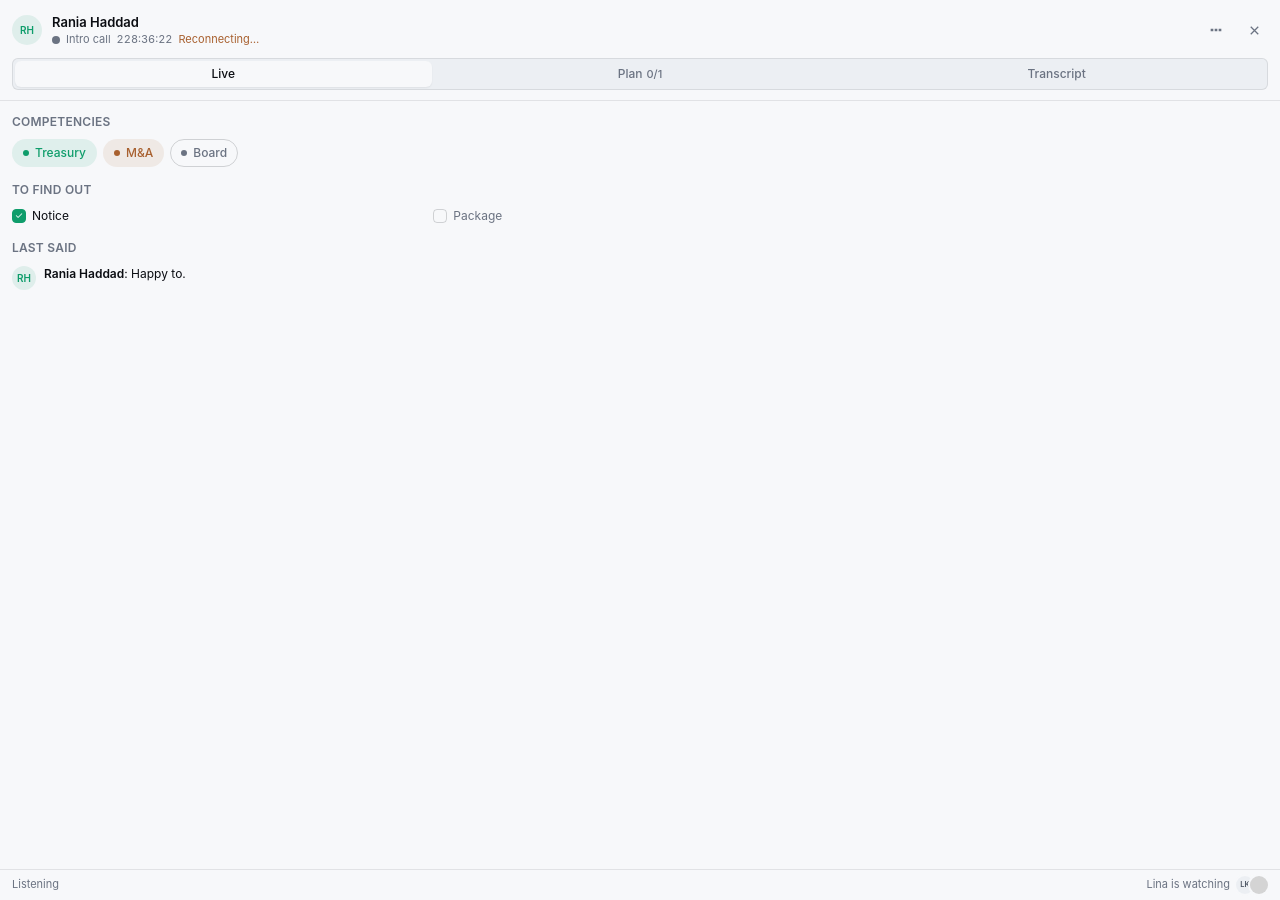
it: CopilotPanel › stops the copilot for everyone only after asking, from the menu
Click the button named "Copilot options" at x=1216, y=30, box left=1202, top=16, right=1230, bottom=44
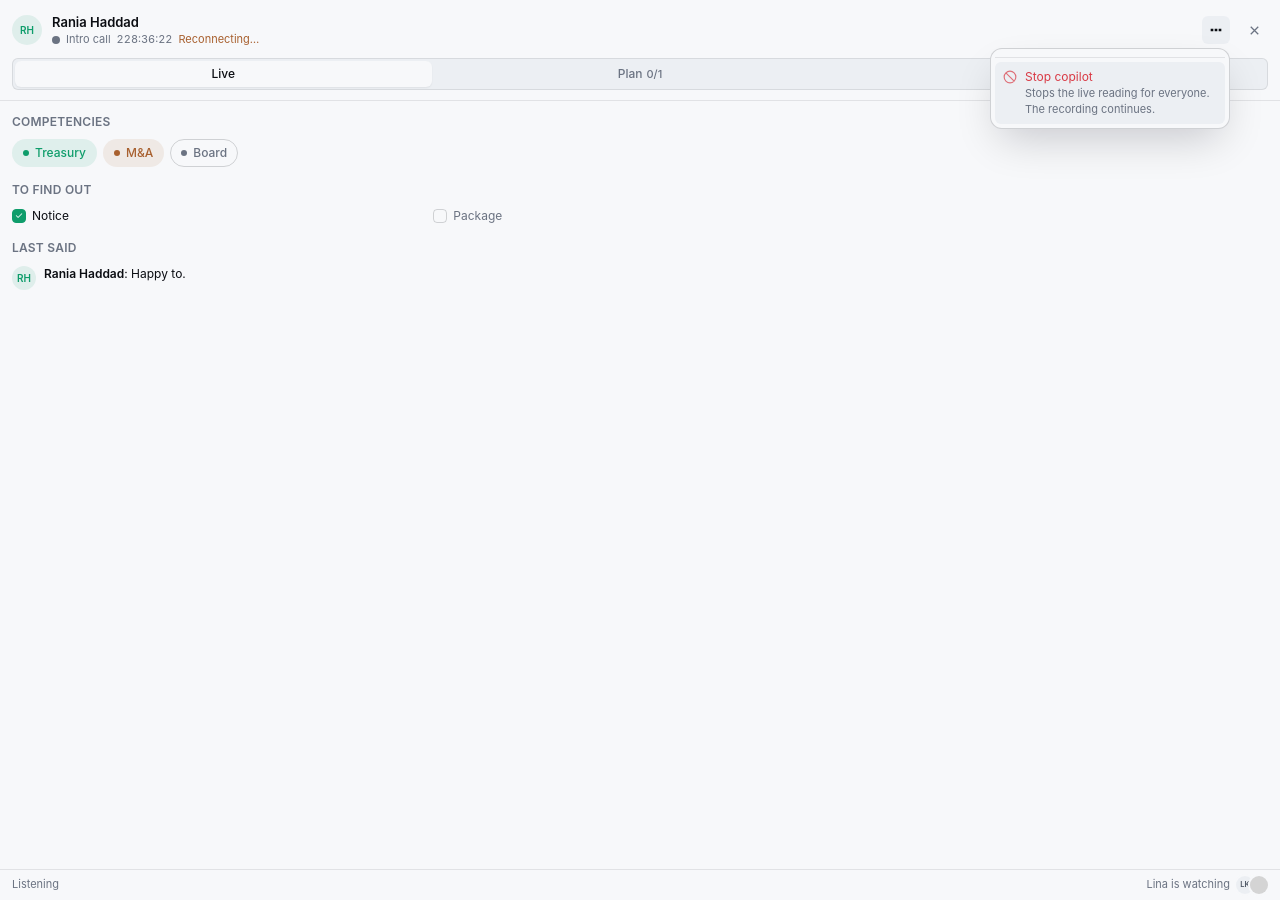
Click the menu item "Stop copilot" at x=1110, y=93, box left=995, top=62, right=1225, bottom=124
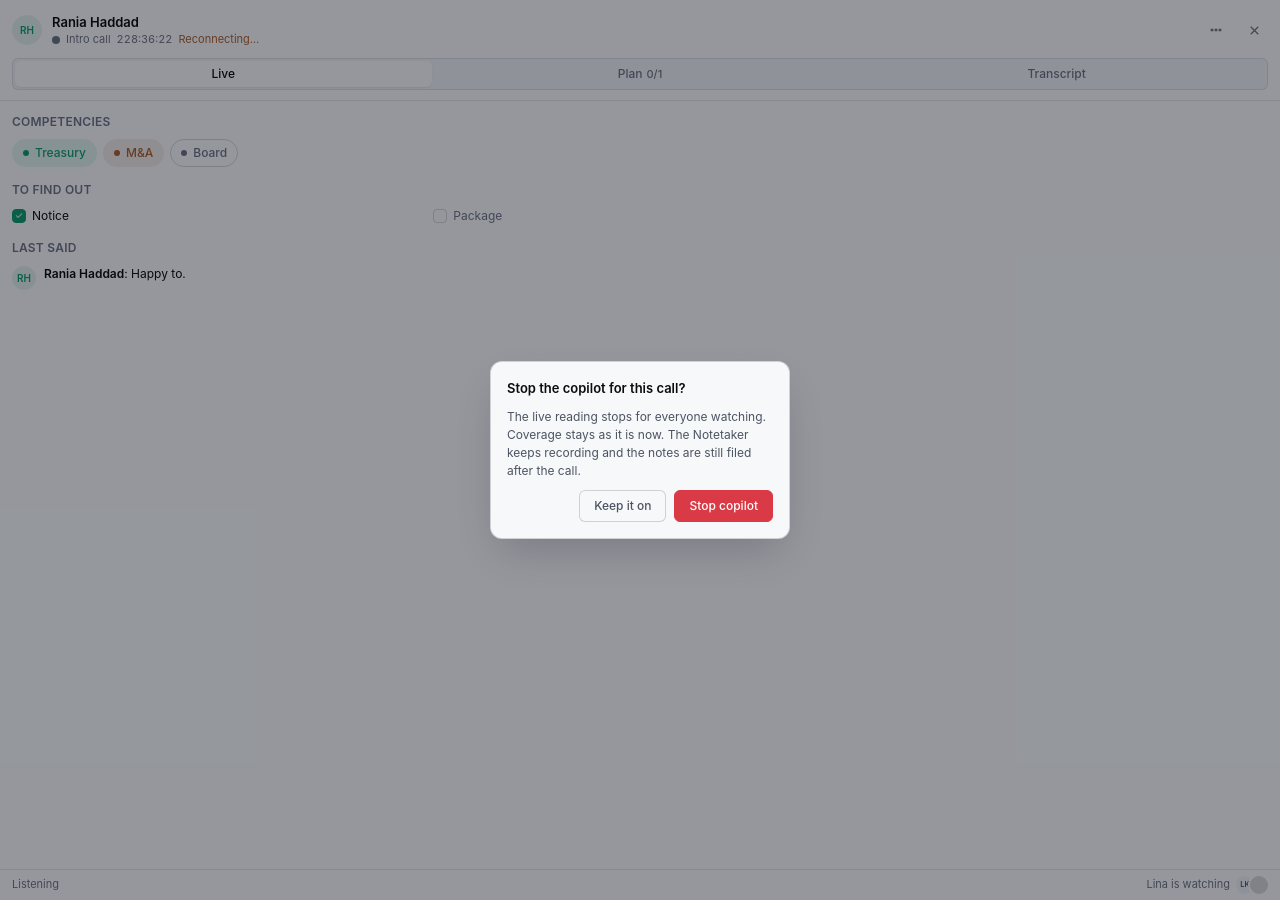
Check: the dialog "Stop the copilot for this call?" is shown, box left=490, top=361, right=790, bottom=539
Click the button "Stop copilot" at x=724, y=506, box left=674, top=490, right=773, bottom=522
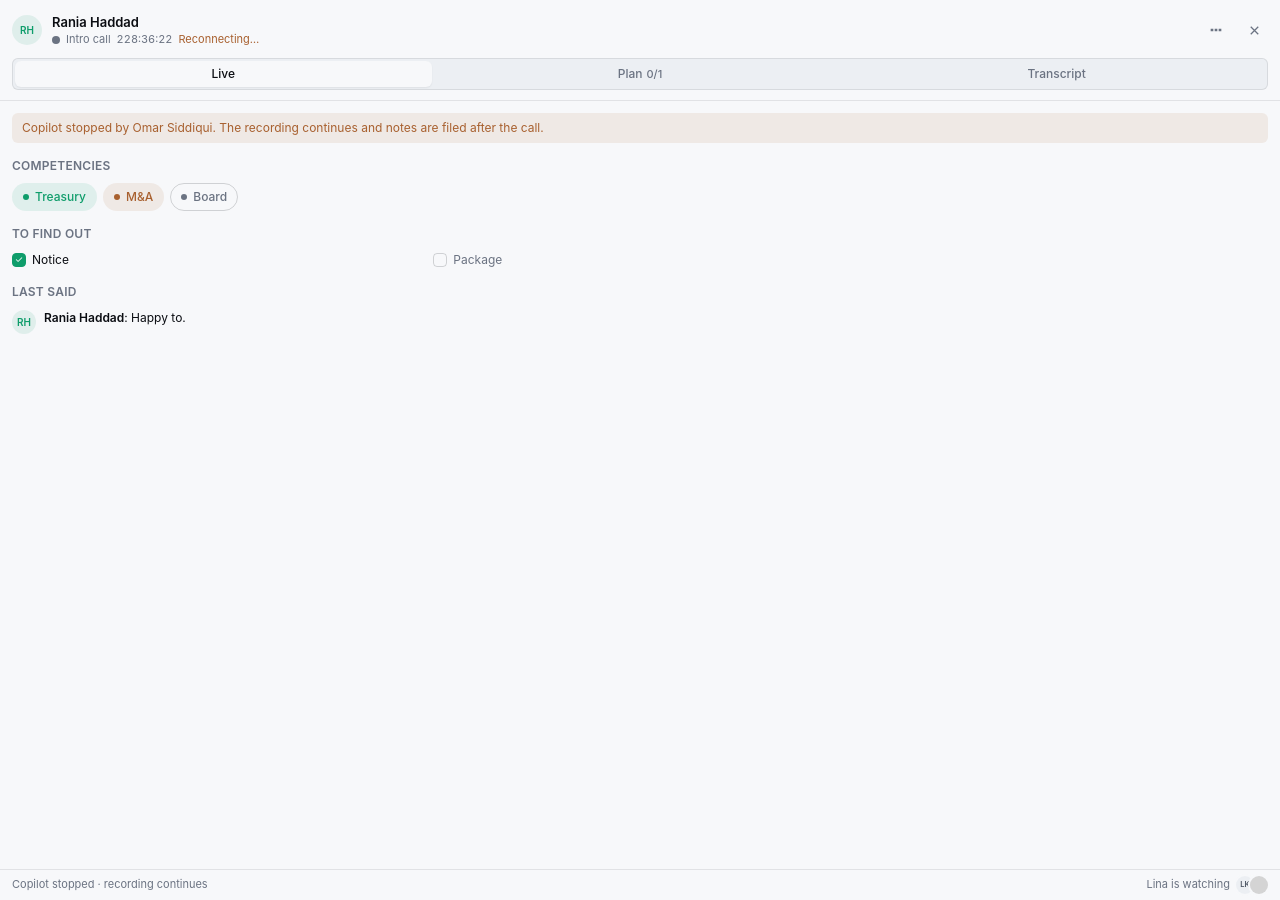
Check: the text "Copilot stopped by Omar Siddiqui" is shown, box left=22, top=120, right=544, bottom=135
